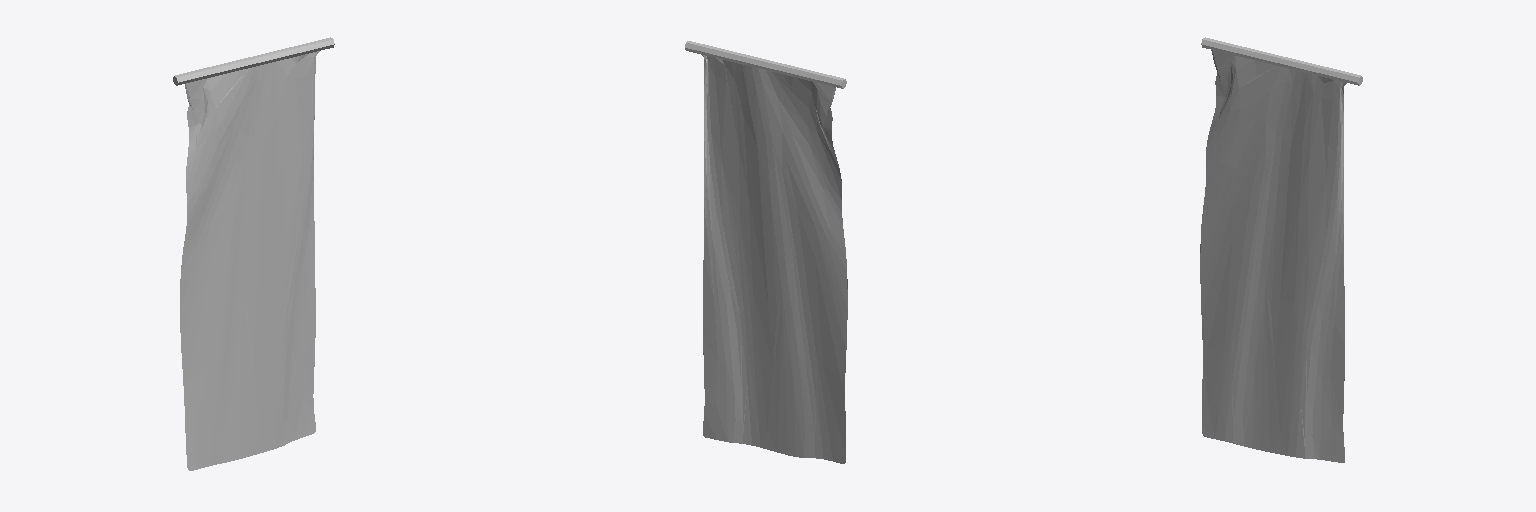
Rendered from Banner.obj.
3 renders of one model, left to right at view 1: azimuth 30°, elevation 25°; view 2: azimuth 150°, elevation 25°; view 3: azimuth 330°, elevation 25°, orthographic.
Visible parts, largest first — view 1: Banner_Cylinder; view 2: Banner_Cylinder; view 3: Banner_Cylinder.
Boxes of the visible parts, x1,y1,x2,y2 form: Banner_Cylinder: [173, 37, 334, 470]; Banner_Cylinder: [685, 41, 847, 463]; Banner_Cylinder: [1200, 37, 1362, 462].
Size of the model in its own units: 6.33 by 15.18 by 0.6757.